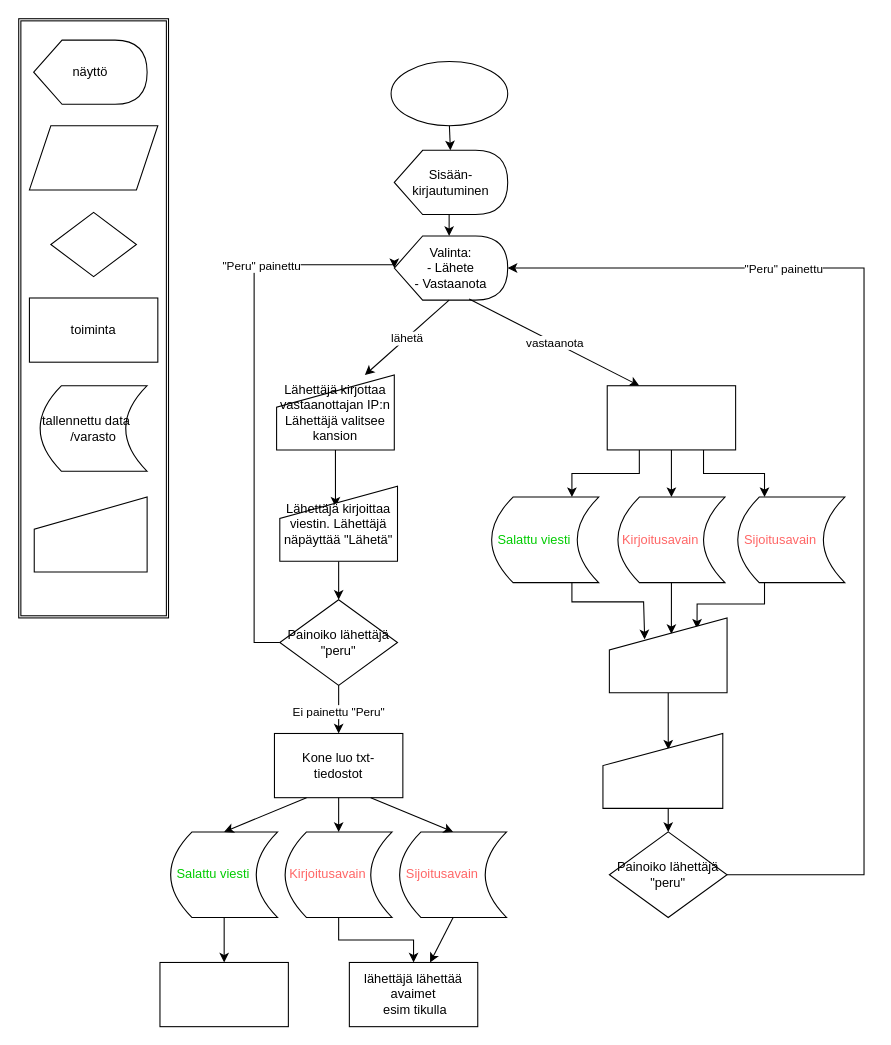
Some shapes in this 891 by 1045 pixel diagram are drawn without their labels. The centre of each missing label's shape, as x and y in pixels:
Aloitus: (449,93)
input/output: (93,157)
käsin syöttö: (90,534)
käyttäjä tallentaa tiedostot PC:n kansioon: (671,417)
lähettäjä lähettää viestin esim Signalilla: (223,994)
valinta: (93,244)
Vastaanottaja näpäyttää "Vastaanota": (662,770)
Vastaanottaja valitsee kansion.: (667,655)
